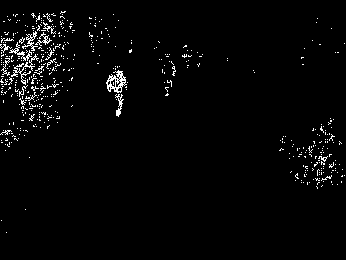person: (105, 65, 128, 118)
